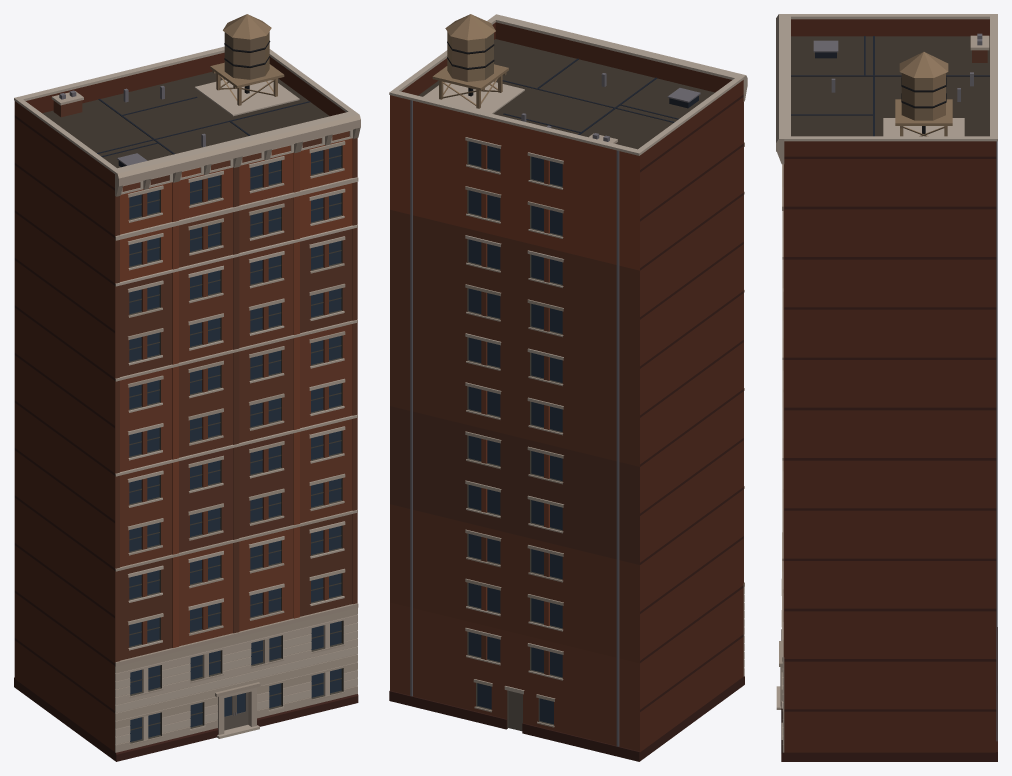
The model's file is prewar-apartment-house-1081a6.glb.
The picture shows the model from 3 angles, left to right: view 1: azimuth 30°, elevation 25°; view 2: azimuth 150°, elevation 25°; view 3: azimuth 270°, elevation 25°; orthographic projection. The views are drawn at different scales.
Visible parts, largest first — view 1: body, water-tank-timber; view 2: body, water-tank-timber; view 3: body, water-tank-timber.
Part boxes in pixels (x1,y1,x2,y2): body: (14,46,360,761); water-tank-timber: (210,14,284,105); body: (389,14,747,761); water-tank-timber: (432,14,508,108); body: (776,14,997,761); water-tank-timber: (895,52,952,136).
Size of the model in its own units: 16 by 41.06 by 12.
